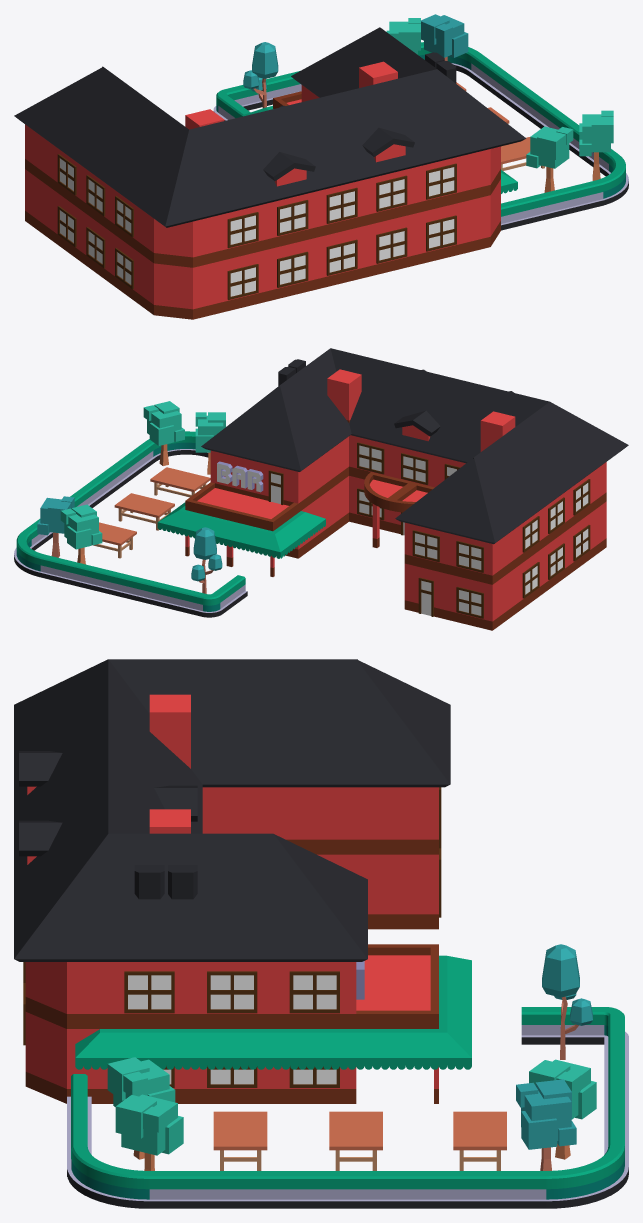
Rendered from pizza.fbx.
3 views of the same model, one above another, from view 1: azimuth 30°, elevation 25°; view 2: azimuth 150°, elevation 25°; view 3: azimuth 270°, elevation 25° (orthographic). The views are drawn at different scales.
Parts seen in each view (by area): view 1: mergedBlocks; view 2: mergedBlocks; view 3: mergedBlocks.
Part boxes in pixels (x1,y1,x2,y2): mergedBlocks: (14,14,628,319); mergedBlocks: (14,348,628,630); mergedBlocks: (14,659,628,1208).
Bounding box in the file's own units: 101 × 31.41 × 74.41.
